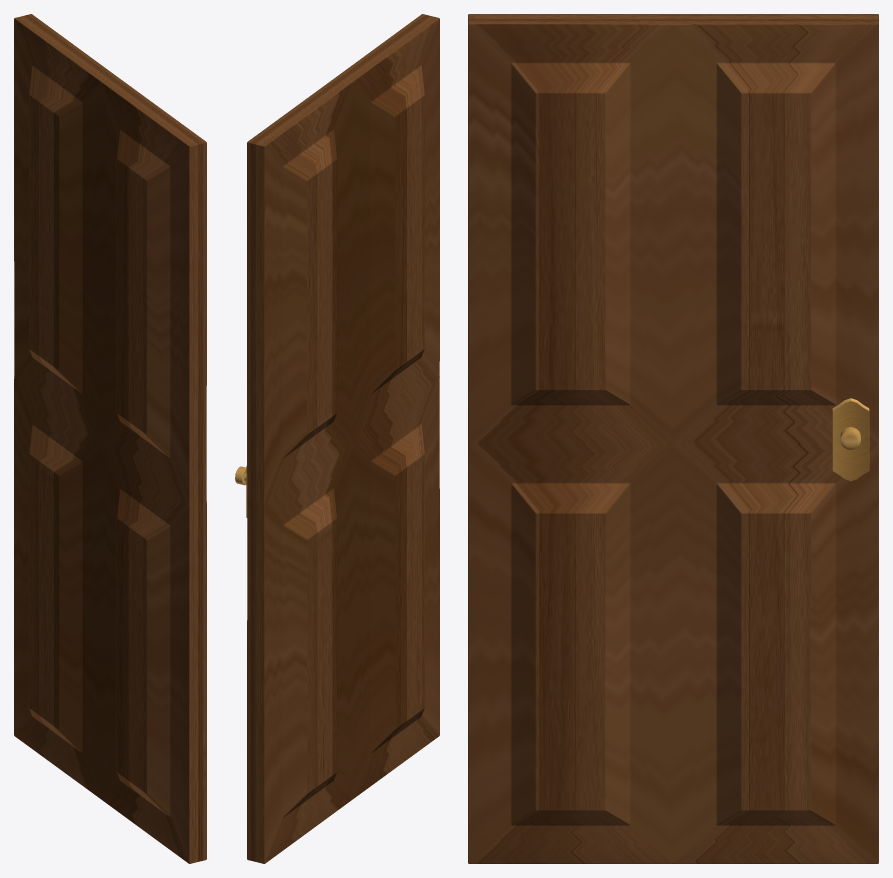
File: FbxDoor.fbx
The picture shows the model from 3 angles, left to right: view 1: azimuth 30°, elevation 25°; view 2: azimuth 150°, elevation 25°; view 3: azimuth 270°, elevation 25°; orthographic projection. The views are drawn at different scales.
Parts seen in each view (by area): view 1: Door; view 2: Door; view 3: Door.
Boxes of the visible parts, x1,y1,x2,y2 form: Door: (14,14,206,863); Door: (235,14,439,863); Door: (468,14,878,863).
Bounding box in the file's own units: 0.1159 × 1.5 × 0.6667.
